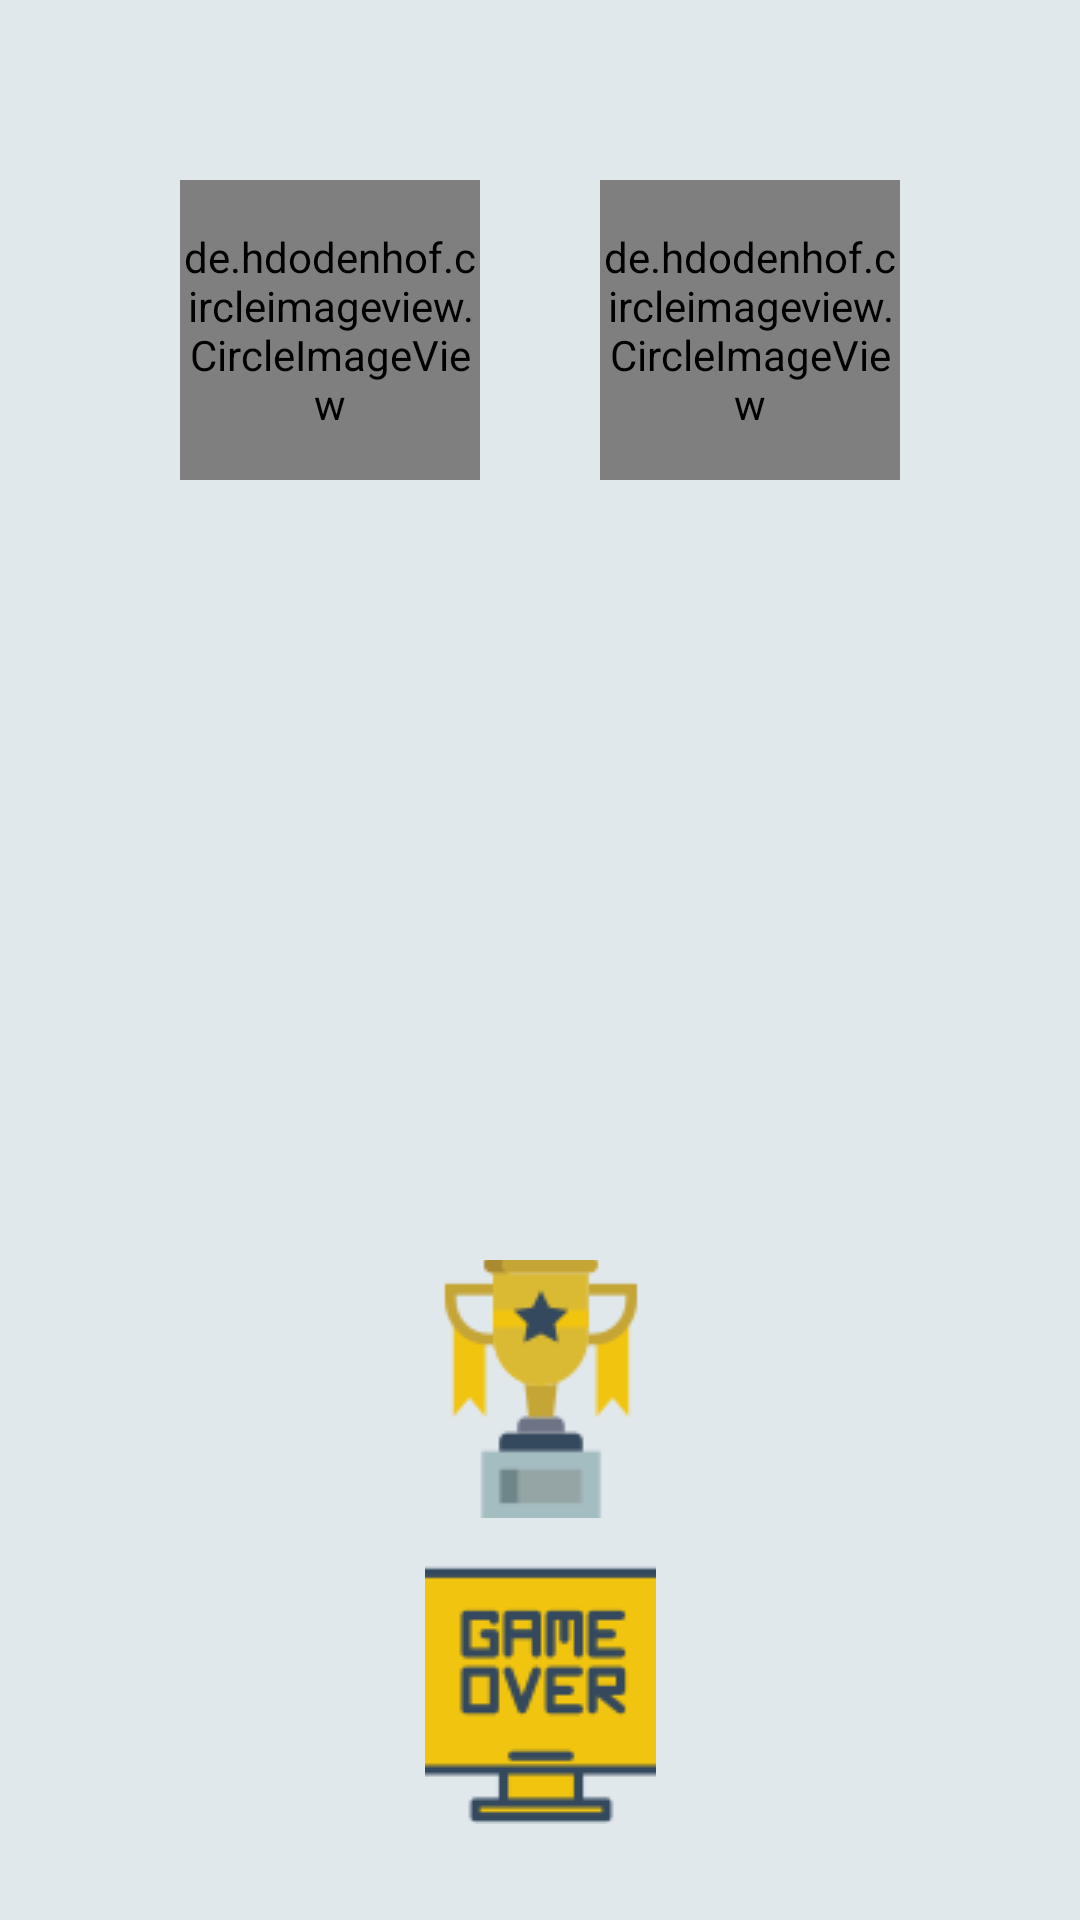

Icon bounding boxes for this 1080 × 1920 phone screenshot, format (x1, y1, x2, y2):
trofeo: (444, 1260, 638, 1518)
